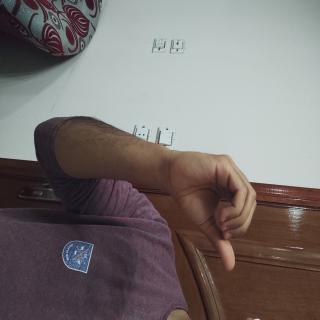WAW: (103, 80, 207, 222)
